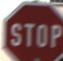Stop sign: (0, 0, 62, 60)
